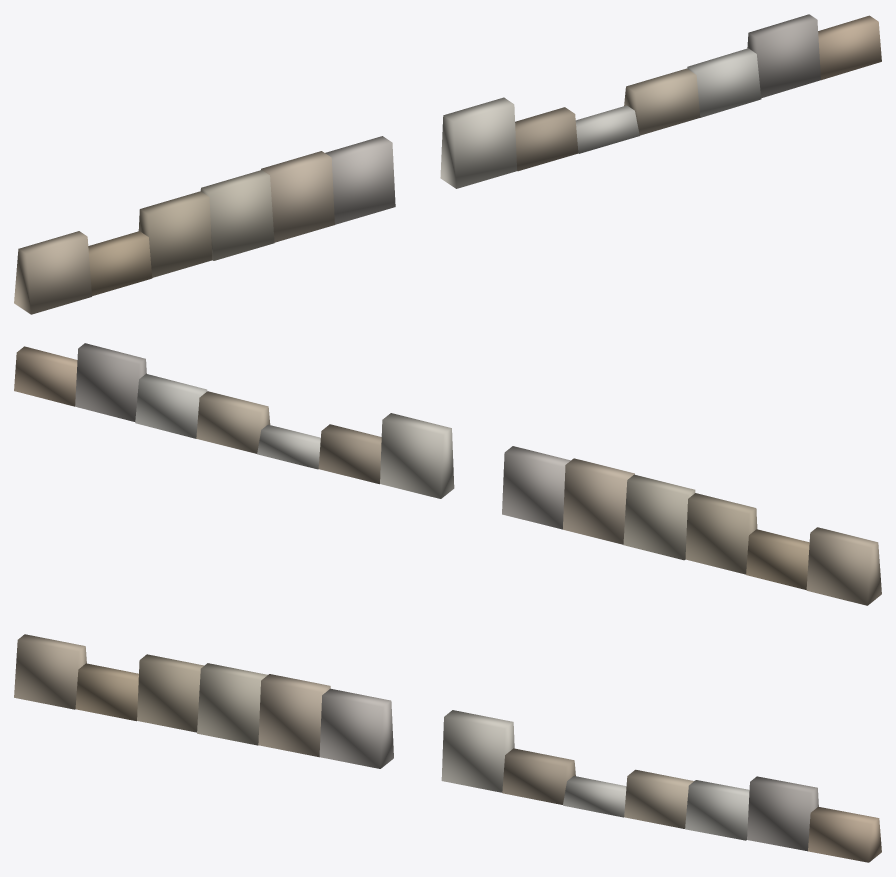
The model's file is farm_6_-6_collision.glb.
The picture shows the model from 3 angles, top to bottom: view 1: azimuth 30°, elevation 25°; view 2: azimuth 150°, elevation 25°; view 3: azimuth 330°, elevation 25°; orthographic projection. The views are drawn at different scales.
Visible parts, largest first — view 1: geometry_0; view 2: geometry_0; view 3: geometry_0.
Boxes of the visible parts, left/top/right/bottom form: geometry_0: left=14, top=14, right=881, bottom=314; geometry_0: left=14, top=343, right=881, bottom=605; geometry_0: left=14, top=634, right=881, bottom=862.
Bounding box in the file's own units: 21.71 × 1.93 × 1.51.
